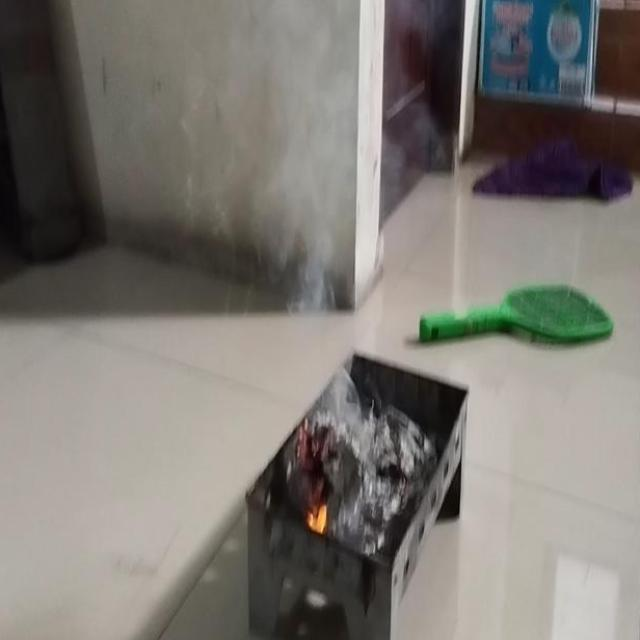fire: (242, 0, 352, 317), (319, 362, 376, 444)
smoke: (304, 492, 334, 538)
